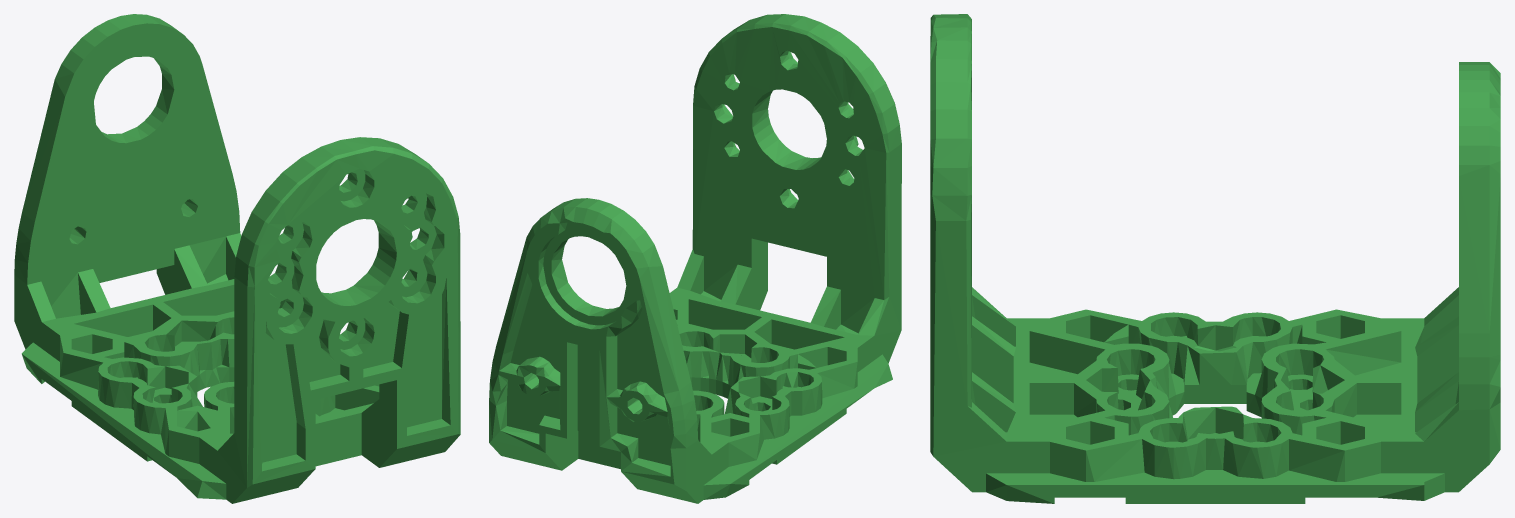
Rendered from bone52.DAE.
3 renders of one model, left to right at view 1: azimuth 30°, elevation 25°; view 2: azimuth 150°, elevation 25°; view 3: azimuth 270°, elevation 25°, orthographic. The views are drawn at different scales.
Parts seen in each view (by area): view 1: Imported1; view 2: Imported1; view 3: Imported1.
Boxes of the visible parts, x1,y1,x2,y2 form: Imported1: [14, 14, 460, 503]; Imported1: [489, 14, 901, 503]; Imported1: [930, 14, 1500, 503].
Size of the model in its own units: 25 by 41 by 31.96.
